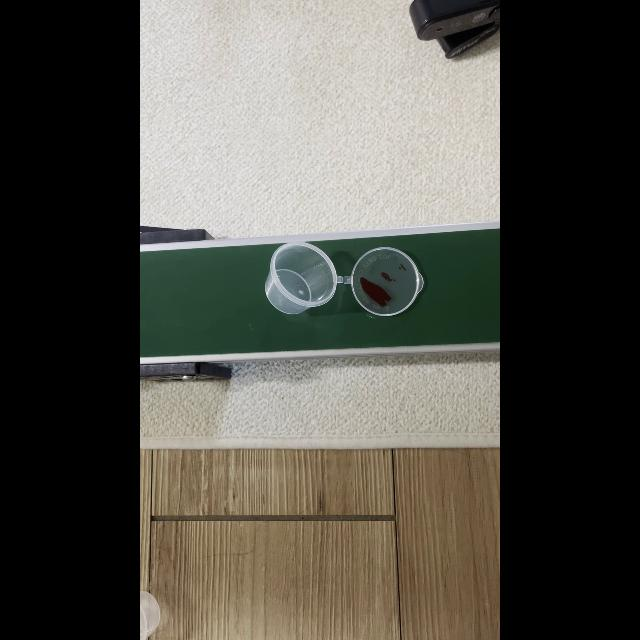dirty: (266, 242, 424, 318)
